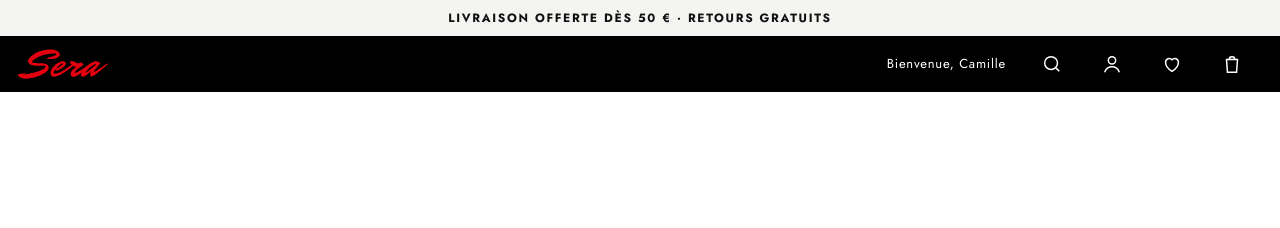
Test: Header (dropdown du compte) › se ferme avec l'icône compte
Check: the text "Bienvenue, Camille" is shown, box [887, 54, 1006, 74]
Step 1. Click the button named "Mon compte" → [1112, 64], box [1090, 42, 1134, 86]
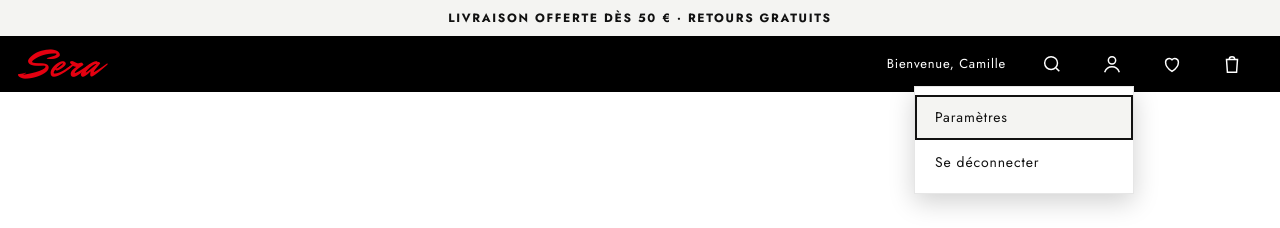
Step 2. Click the button named "Mon compte" → [1112, 64], box [1090, 42, 1134, 86]
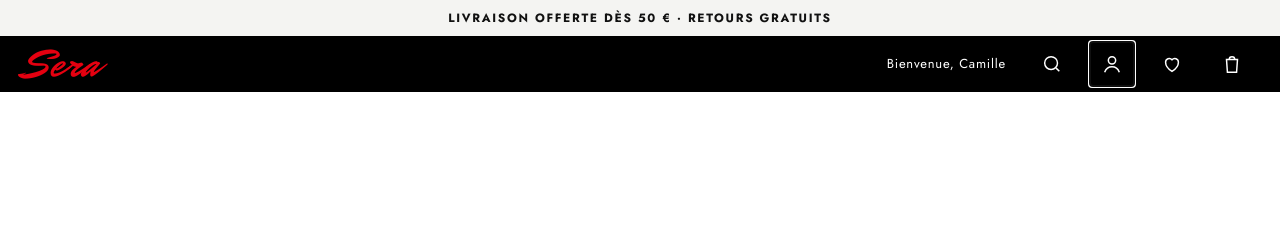
Check: the link "Paramètres" is gone
